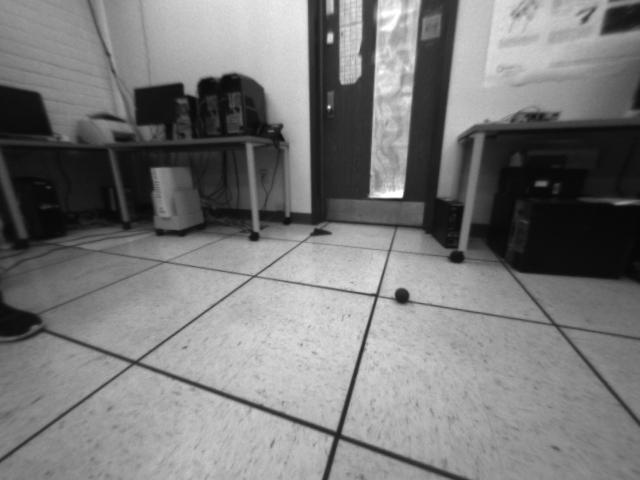dogtoy: (389, 282, 414, 311)
